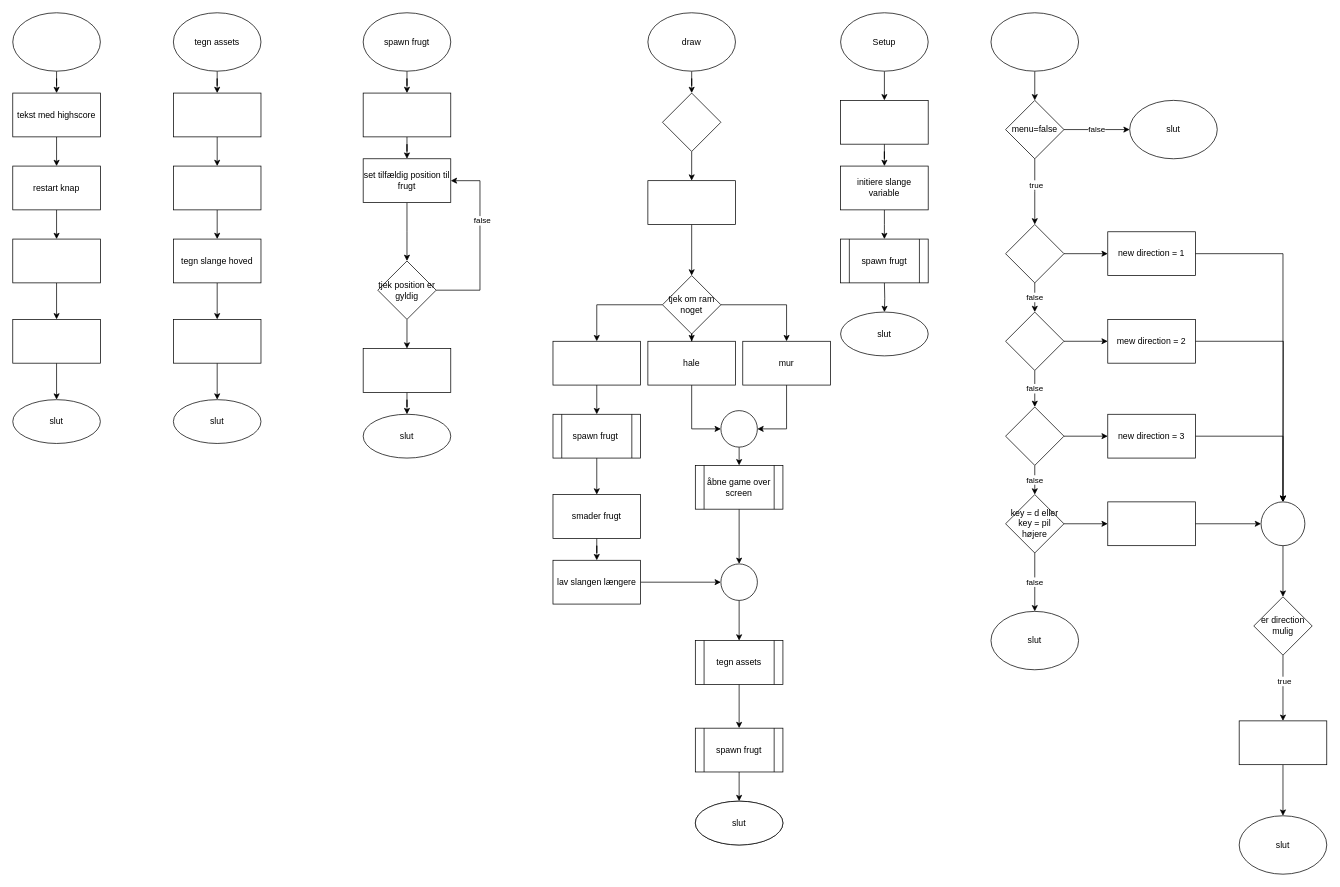
Some shapes in this 1340 by 887 pixel diagram are drawn without their labels. Each missing label, with the centre of its shape:
"background" goes at point 217,114.
"bool menu = true" goes at point 56,341.
"direction = new direction" goes at point 1282,742.
"framecount % ticks = 0" goes at point 691,121.
"frugt" goes at point 596,363.
"key = a eller key = pil ventre" goes at point 1034,340.
"key = s eller key = pil ned" goes at point 1034,435.
"key = w eller key = pil op" goes at point 1034,253.
"keypressed" goes at point 1034,41.
"lav spil område" goes at point 884,122.
"new direction = 4" goes at point 1151,523.
"ryk slangen" goes at point 691,202.
"tegn afslut knap" goes at point 56,260.
"tegn frugt" goes at point 217,187.
"tegn game over menu" goes at point 56,41.
"tegn slang hale" goes at point 217,341.
"tilføj til liste over frugter" goes at point 406,370.
"tjek om frugten kan spawne" goes at point 406,114.
